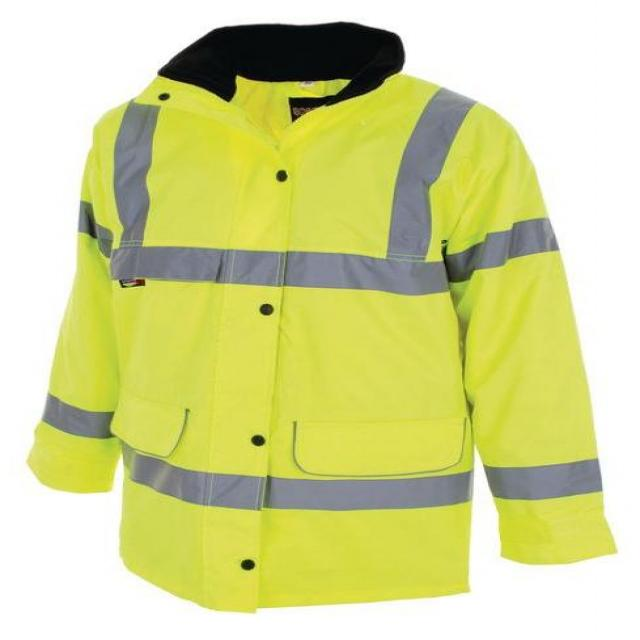Reflective-Jacket: (24, 20, 634, 640)
